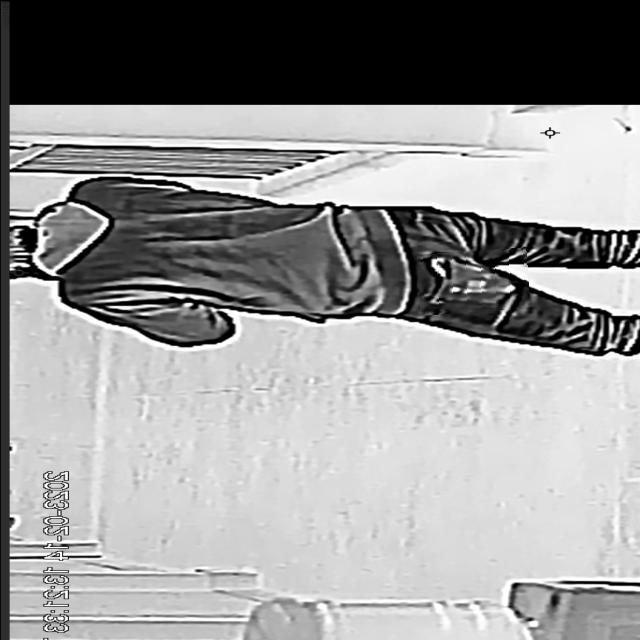Weapon: (418, 248, 530, 312)
